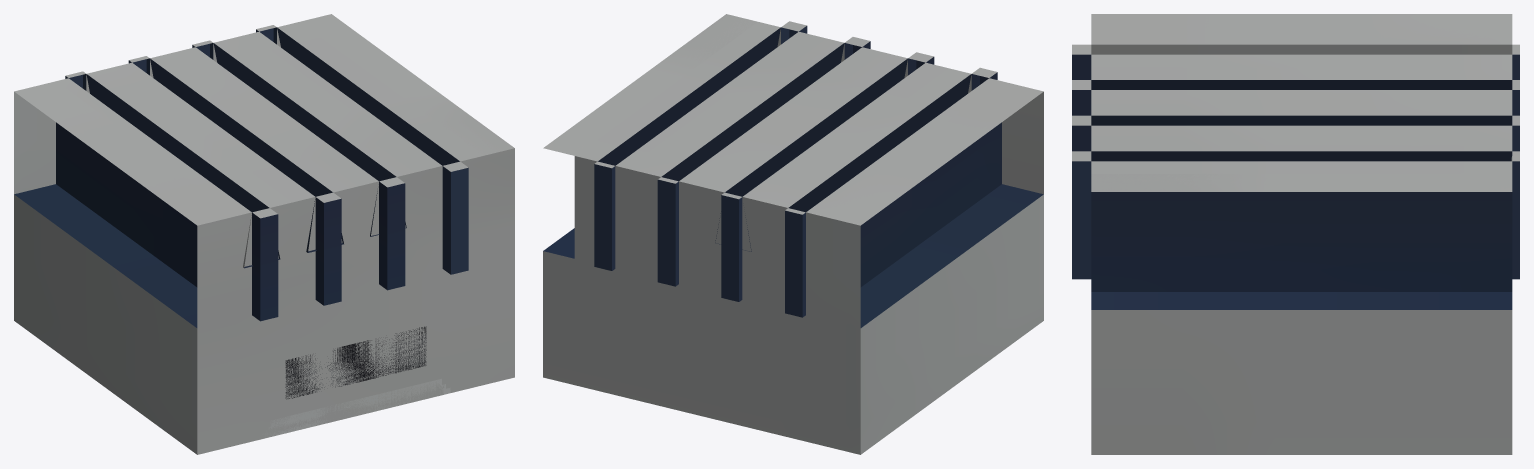
Rendered from Mirea_2.fbx.
3 views of the same model, side by side, from view 1: azimuth 30°, elevation 25°; view 2: azimuth 150°, elevation 25°; view 3: azimuth 270°, elevation 25° (orthographic). The views are drawn at different scales.
Parts seen in each view (by area): view 1: House, Cube, Platforma_2; view 2: House; view 3: House.
Part boxes in pixels (box(x1,y1,x2,y2)): House: box(14, 14, 514, 454); Cube: box(285, 326, 426, 399); Platforma_2: box(262, 378, 450, 437); House: box(543, 14, 1043, 454); House: box(1072, 14, 1519, 454).
Bounding box in the file's own units: 4000 × 2760 × 4256.
